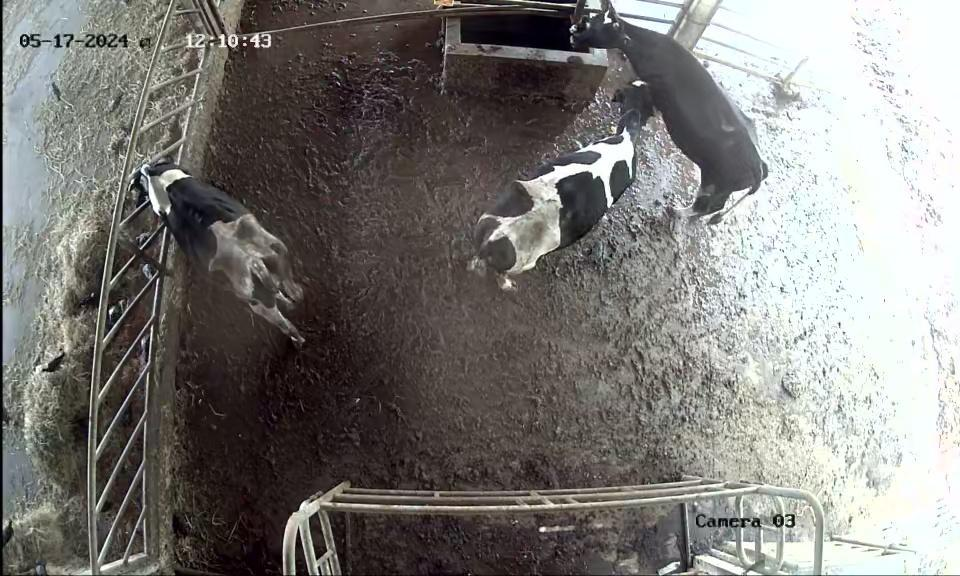drink: (553, 0, 671, 83)
eat: (93, 142, 211, 224)
stand: (438, 77, 686, 302)
